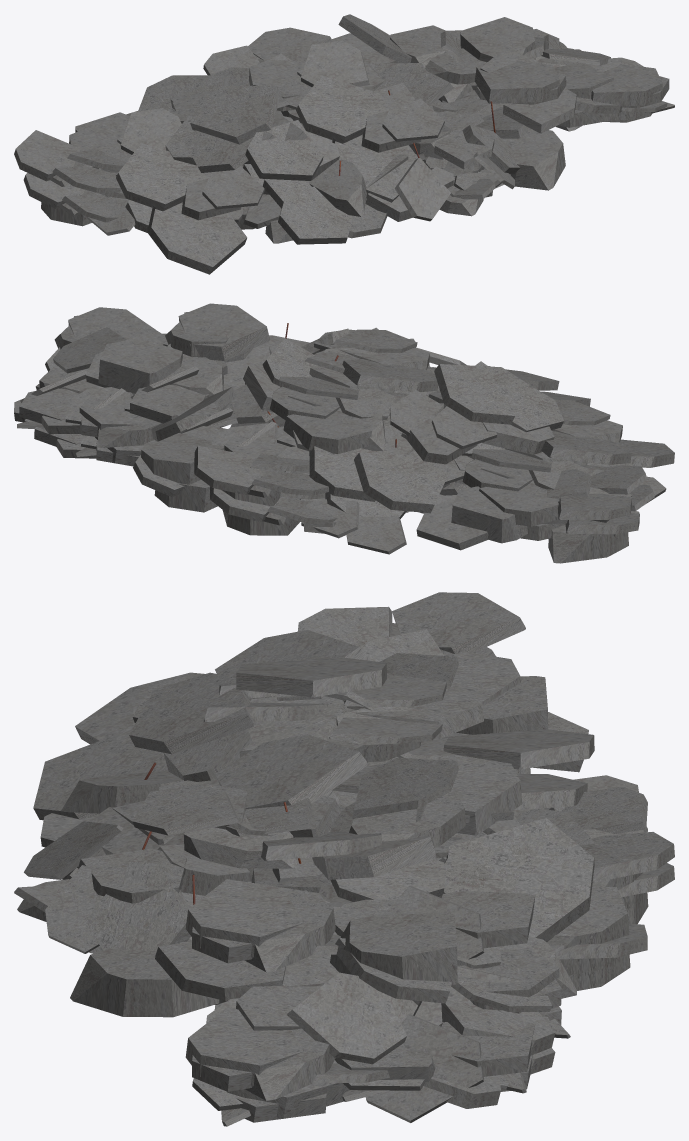
Rendered from runtuhan 1,3.fbx.
3 renders of one model, top to bottom at view 1: azimuth 30°, elevation 25°; view 2: azimuth 150°, elevation 25°; view 3: azimuth 270°, elevation 25°, orthographic. The views are drawn at different scales.
Visible parts, largest first — view 1: Cube.510, Cube.561, Cube.538, Cube.514, Cube.571, Cube.567, Cube.558, Cube.332, Cube.535, Cube.554, Cube.542, Cube.478 (+56 smaller); view 2: Cube.561, Cube.399, Cube.554, Cube.558, Cube.541, Cube.467, Cube.402, Cube.408, Cube.405, Cube.538, Cube.522, Cube.485 (+66 smaller); view 3: Cube.530, Cube.538, Cube.554, Cube.446, Cube.571, Cube.332, Cube.391, Cube.558, Cube.517, Cube.424, Cube.561, Cube.478 (+68 smaller).
Part boxes in pixels (box(x1,y1,x2,y2)): Cube.510: box(147, 202, 247, 274); Cube.561: box(190, 85, 281, 144); Cube.538: box(296, 75, 389, 143); Cube.514: box(116, 143, 208, 211); Cube.571: box(245, 120, 323, 180); Cube.567: box(278, 186, 353, 244); Cube.558: box(474, 60, 559, 103); Cube.332: box(501, 128, 565, 190); Cube.535: box(332, 134, 417, 202); Cube.554: box(460, 17, 535, 62); Cube.542: box(301, 40, 369, 86); Cube.478: box(590, 64, 662, 106); Cube.561: box(434, 364, 529, 424); Cube.399: box(354, 452, 448, 513); Cube.554: box(98, 339, 183, 393); Cube.558: box(178, 303, 269, 360); Cube.541: box(283, 410, 371, 453); Cube.467: box(451, 486, 527, 543); Cube.402: box(141, 433, 224, 484); Cube.408: box(194, 445, 262, 494); Cube.405: box(309, 446, 391, 501); Cube.538: box(342, 359, 438, 391); Cube.522: box(479, 483, 559, 526); Cube.485: box(548, 524, 628, 563); Cube.530: box(444, 818, 594, 942); Cube.538: box(215, 734, 367, 808); Cube.554: box(330, 913, 457, 985); Cube.446: box(287, 972, 406, 1064); Cube.571: box(129, 672, 255, 754); Cube.332: box(70, 939, 219, 1017); Cube.391: box(83, 861, 190, 951); Cube.558: box(185, 879, 333, 957); Cube.517: box(392, 592, 525, 653); Cube.424: box(365, 1014, 483, 1122); Cube.561: box(236, 657, 386, 697); Cube.478: box(185, 1007, 303, 1086).
Bounding box in the file's own units: 1583 × 274 × 944.
